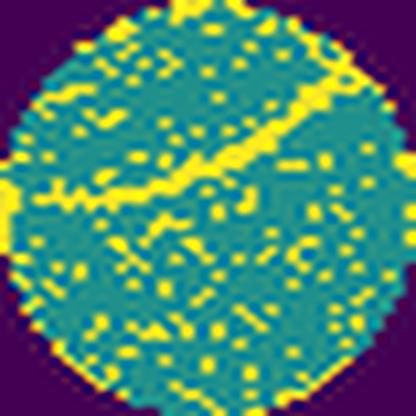Scratch: (31, 53, 365, 216)
